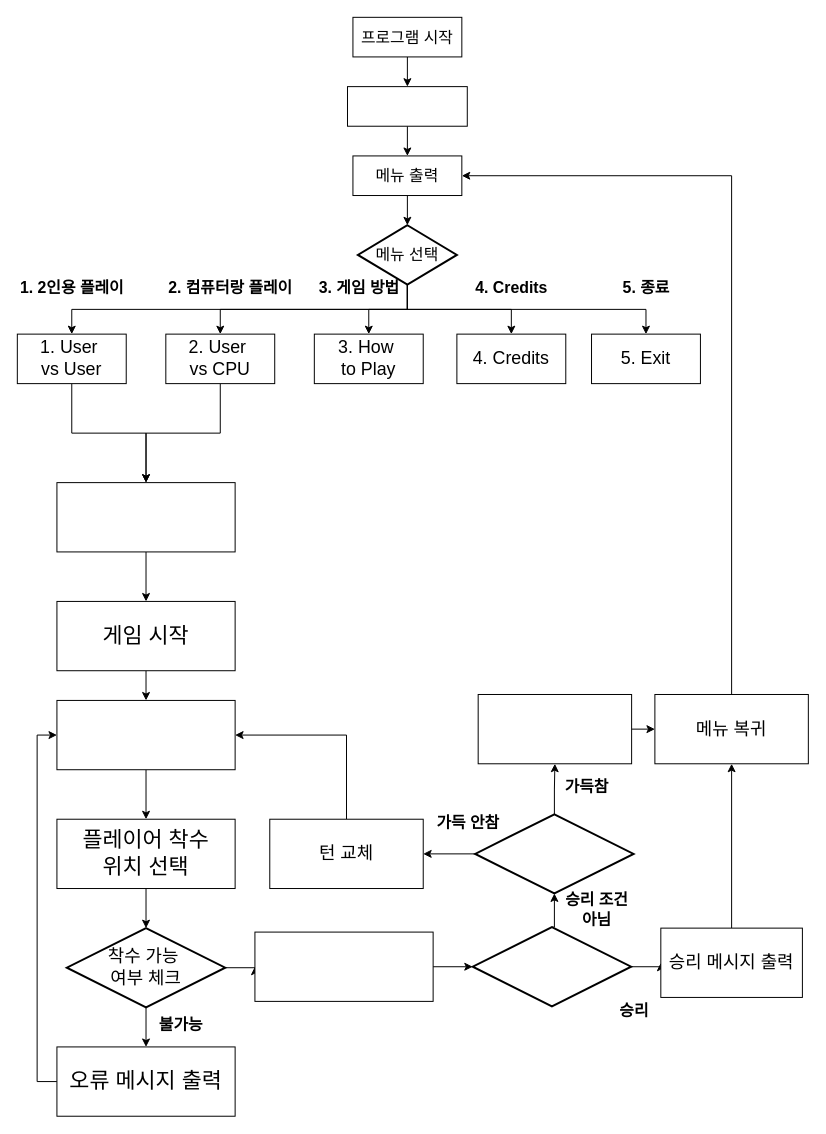
This 826x1134 diagram has some shape labels left out. The centre of each missing label's shape, as x and y in pixels:
"GameController 객체 생성" goes at (145,517).
"Menu.Run() 실행" goes at (406,106).
"무승부 메시지 출력" goes at (554,728).
"보드가 가득 찼는가?" goes at (554,853).
"보드에 돌 배치" goes at (343,966).
"승리 조건인가?" goes at (551,966).
"현재 턴 플레이어 선택" goes at (145,734).
